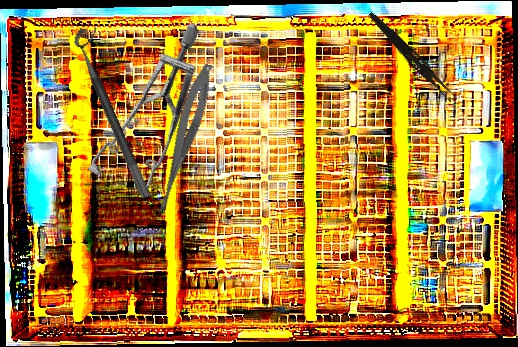Dressing Forceps: (364, 10, 459, 103)
Fixation Ring: (70, 22, 165, 200)
Micro Scissor: (151, 60, 218, 223)
Speculum: (50, 21, 260, 218)
